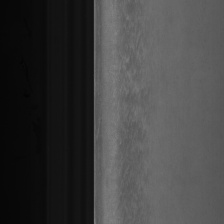silk_spot: (117, 20, 152, 198)
